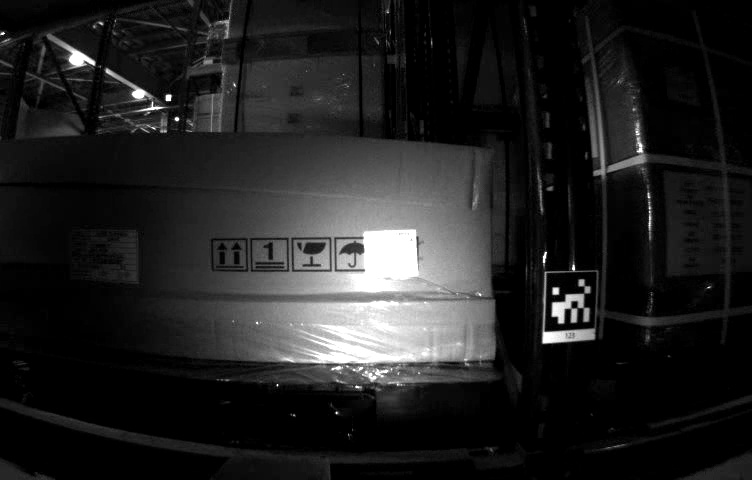True Barcode: (363, 230, 419, 276), (665, 63, 700, 108)
